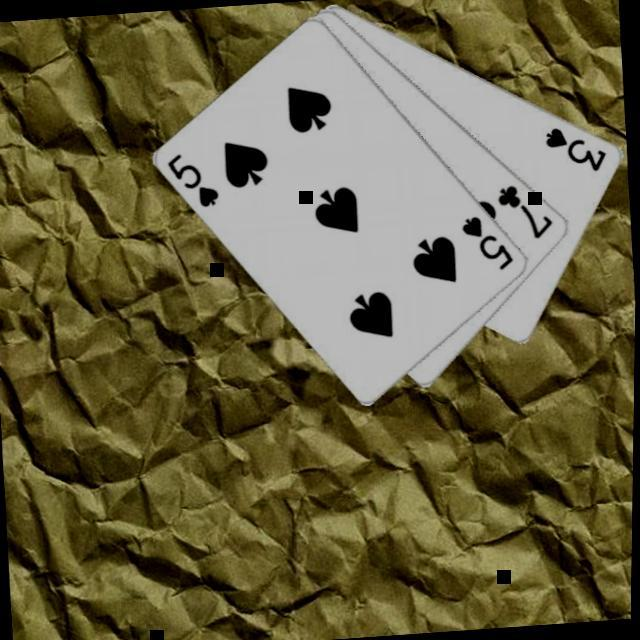3S: (543, 122, 614, 178)
5S: (166, 149, 227, 215), (460, 210, 520, 276)
7C: (494, 179, 560, 246)
